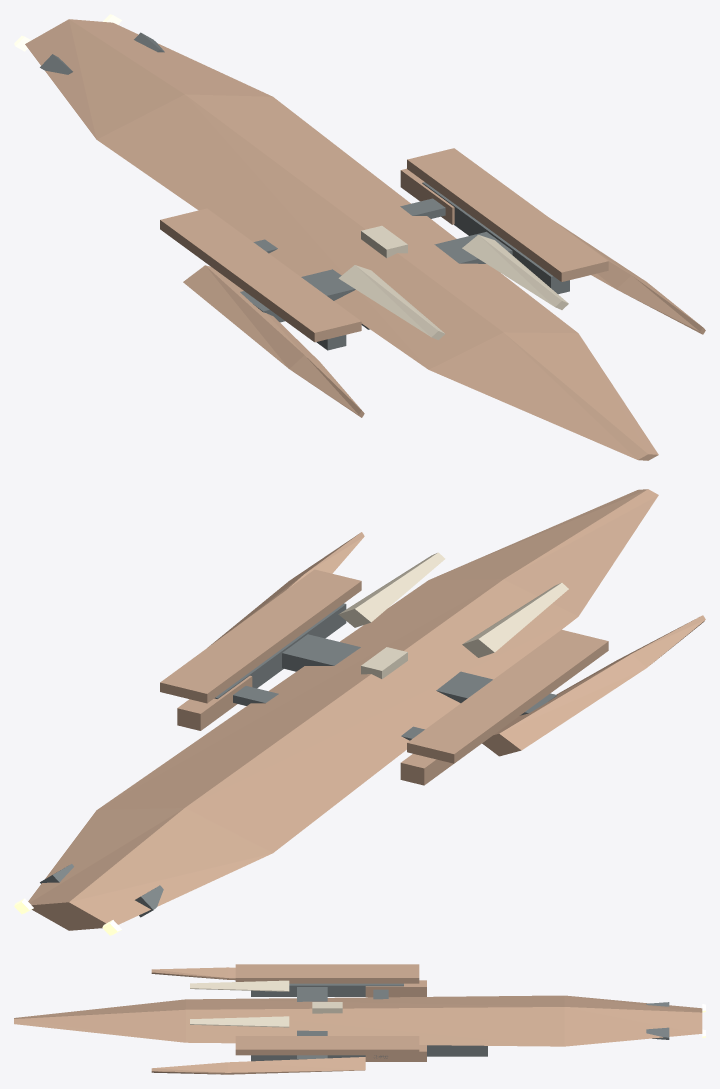
The picture shows the model from 3 angles, top to bottom: view 1: azimuth 30°, elevation 25°; view 2: azimuth 150°, elevation 25°; view 3: azimuth 270°, elevation 25°; orthographic projection. The views are drawn at different scales.
Size of the model in its own units: 6.99 by 1.51 by 19.73.
